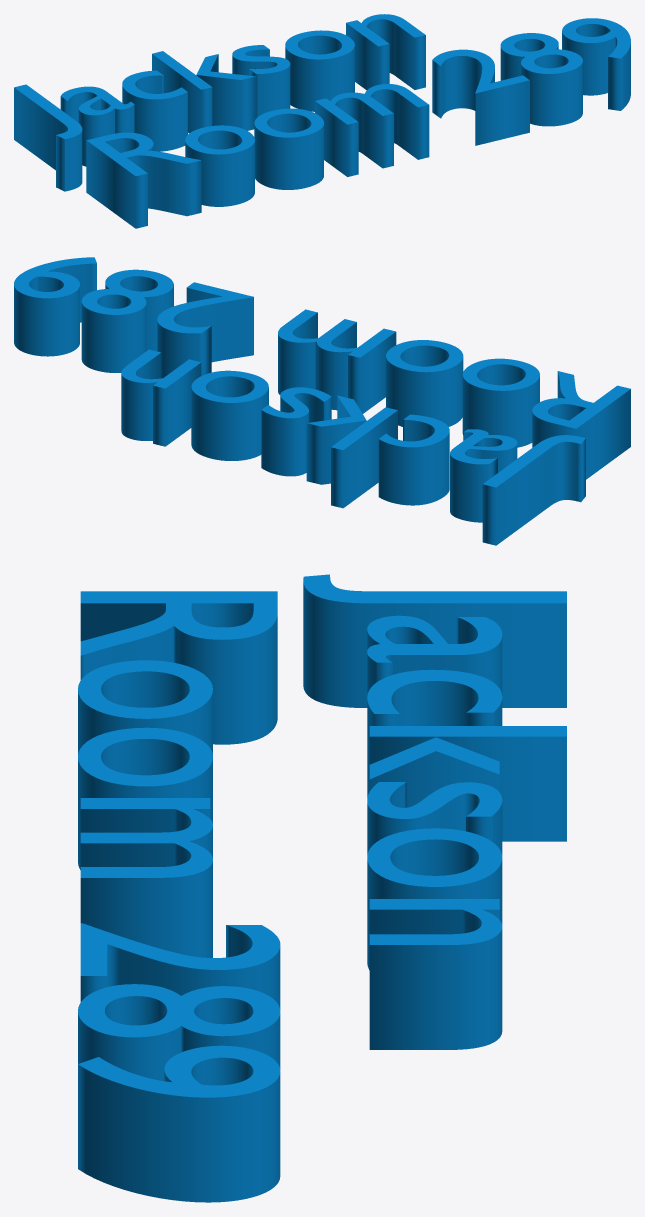
File: jackson-289.gltf
The picture shows the model from 3 angles, top to bottom: view 1: azimuth 30°, elevation 25°; view 2: azimuth 150°, elevation 25°; view 3: azimuth 270°, elevation 25°; orthographic projection. The views are drawn at different scales.
Visible parts, largest first — view 1: Text; view 2: Text; view 3: Text.
Boxes of the visible parts, box(x1,y1,x2,y2) form: Text: box(14, 14, 630, 228); Text: box(14, 257, 630, 545); Text: box(78, 574, 566, 1202).
Size of the model in its own units: 4.28 by 0.4 by 1.69.
